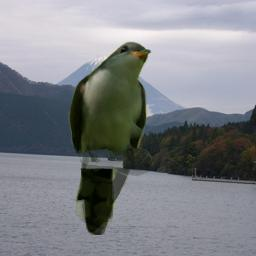Cuckoo: (68, 41, 152, 235)
